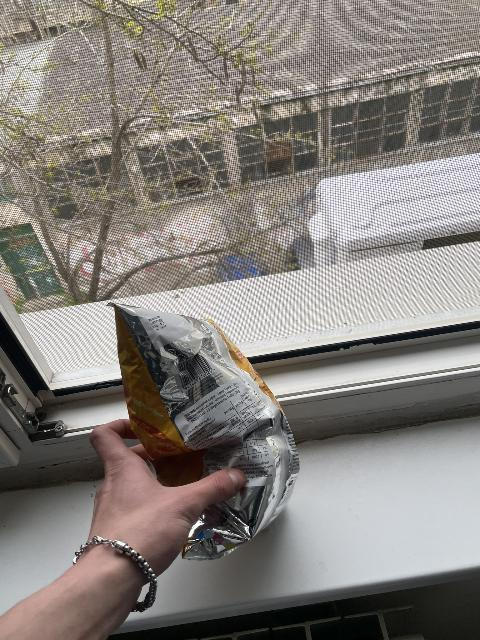Chio Hula Hoops Cheese 70g: (103, 307, 298, 557)
